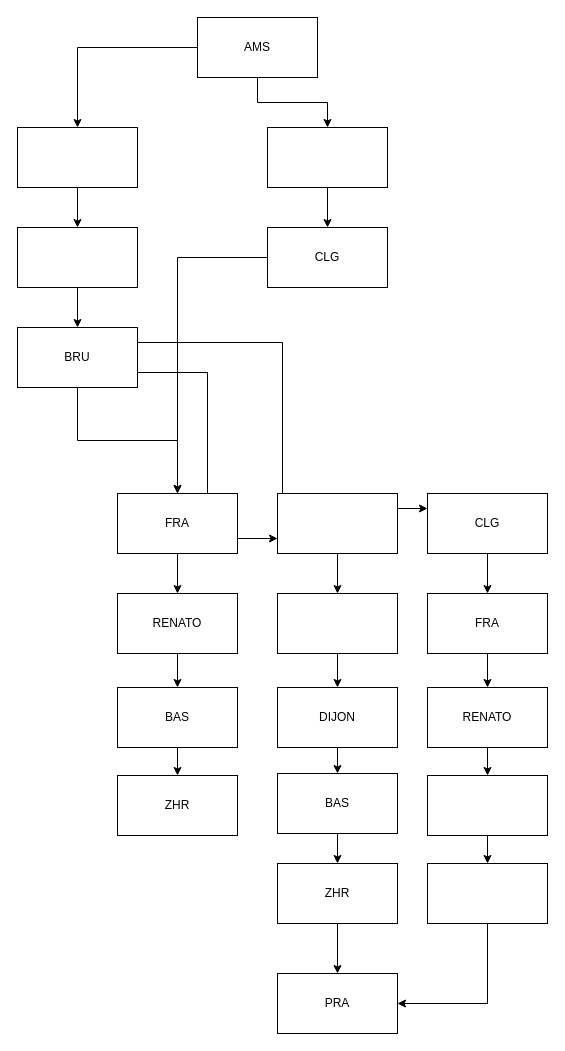
The diagram is 565 pixels wide and 1051 high, and some of its shapes have lost their labels. The centre of each missing label's shape, as x and y in pixels:
ANT: the point at 77,257
DUS: the point at 327,157
LILLE/DUNKIRK: the point at 337,523
NUREM/MUN: the point at 487,893
PARIS: the point at 337,623
ROT: the point at 77,157
STUTT: the point at 487,805
